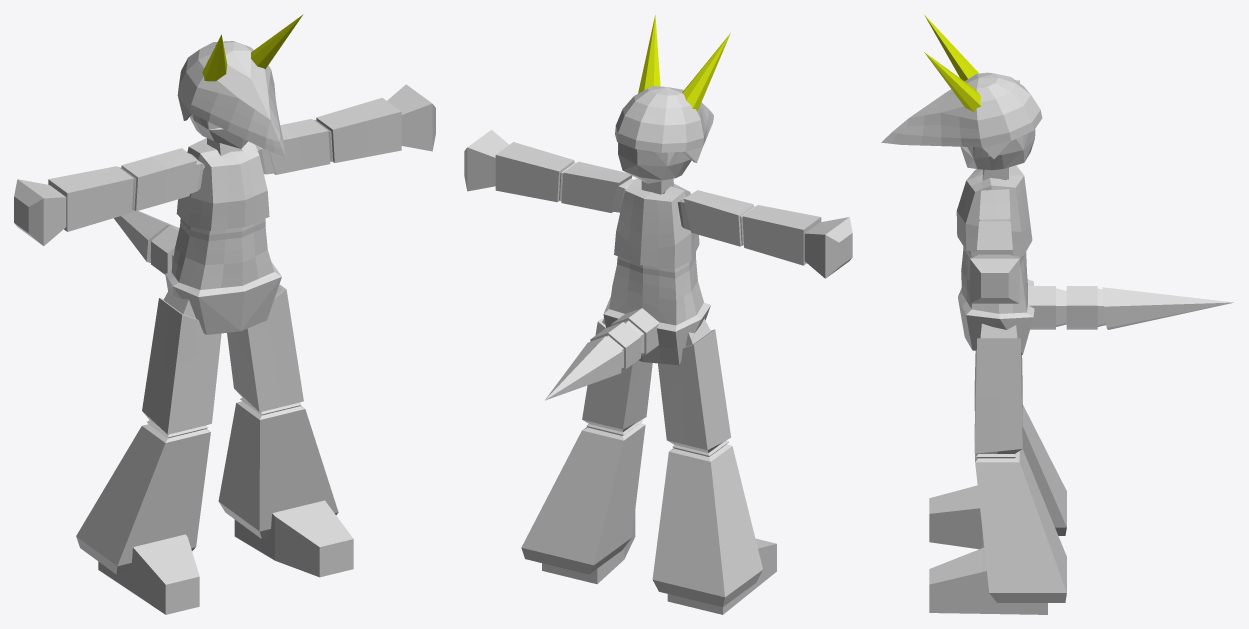
File: COPYLEAP.fbx
3 views of the same model, side by side, from view 1: azimuth 30°, elevation 25°; view 2: azimuth 150°, elevation 25°; view 3: azimuth 270°, elevation 25° (orthographic). The views are drawn at different scales.
Visible parts, largest first — view 1: torso.001, horns.001; view 2: torso.001, horns.001; view 3: torso.001, horns.001.
Part boxes in pixels (x1,y1,x2,y2): torso.001: (14,41,435,614); horns.001: (202,14,303,81); torso.001: (464,86,852,614); horns.001: (638,15,730,111); torso.001: (881,72,1234,614); horns.001: (924,14,981,111).
Size of the model in its own units: 1.68 by 2.25 by 1.35.
